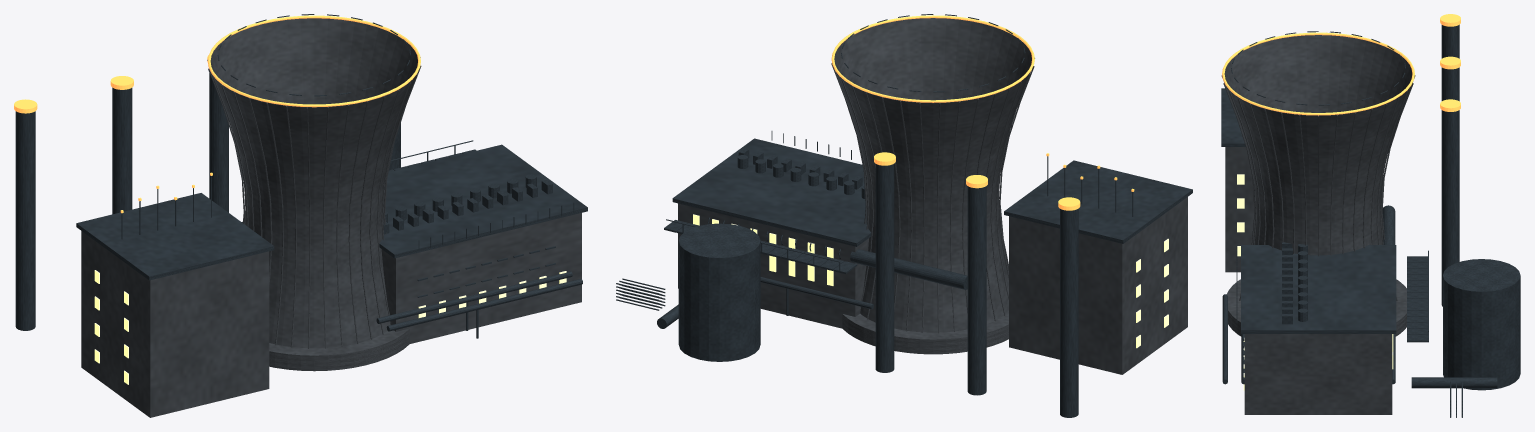
File: geothermal-plant-lod0.glb
3 renders of one model, left to right at view 1: azimuth 30°, elevation 25°; view 2: azimuth 150°, elevation 25°; view 3: azimuth 270°, elevation 25°, orthographic. The views are drawn at different scales.
Parts seen in each view (by area): view 1: CinematicBatch_concrete, CinematicBatch_steel, CinematicBatch_amber, CinematicBatch_window; view 2: CinematicBatch_concrete, CinematicBatch_steel, CinematicBatch_amber, CinematicBatch_window; view 3: CinematicBatch_concrete, CinematicBatch_steel, CinematicBatch_amber, CinematicBatch_window.
Part boxes in pixels (x1,y1,x2,y2): CinematicBatch_concrete: (81, 18, 581, 417); CinematicBatch_steel: (15, 14, 587, 338); CinematicBatch_amber: (14, 15, 420, 213); CinematicBatch_window: (94, 270, 566, 384); CinematicBatch_concrete: (678, 18, 1187, 374); CinematicBatch_steel: (616, 14, 1192, 417); CinematicBatch_amber: (831, 15, 1134, 210); CinematicBatch_window: (693, 214, 1168, 348); CinematicBatch_concrete: (1221, 35, 1415, 414); CinematicBatch_steel: (1221, 24, 1520, 417); CinematicBatch_amber: (1222, 14, 1460, 115); CinematicBatch_window: (1237, 174, 1393, 390).
Bounding box in the file's own units: 64.35 × 35.08 × 38.5.
Materials: 4 (2 with a texture image).
